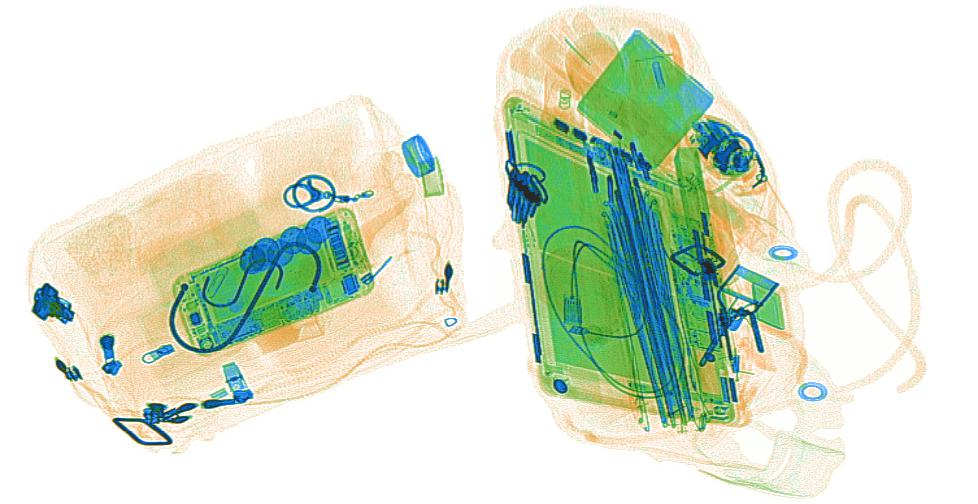plasticBottleWithaNozzle: (539, 64, 586, 172)
